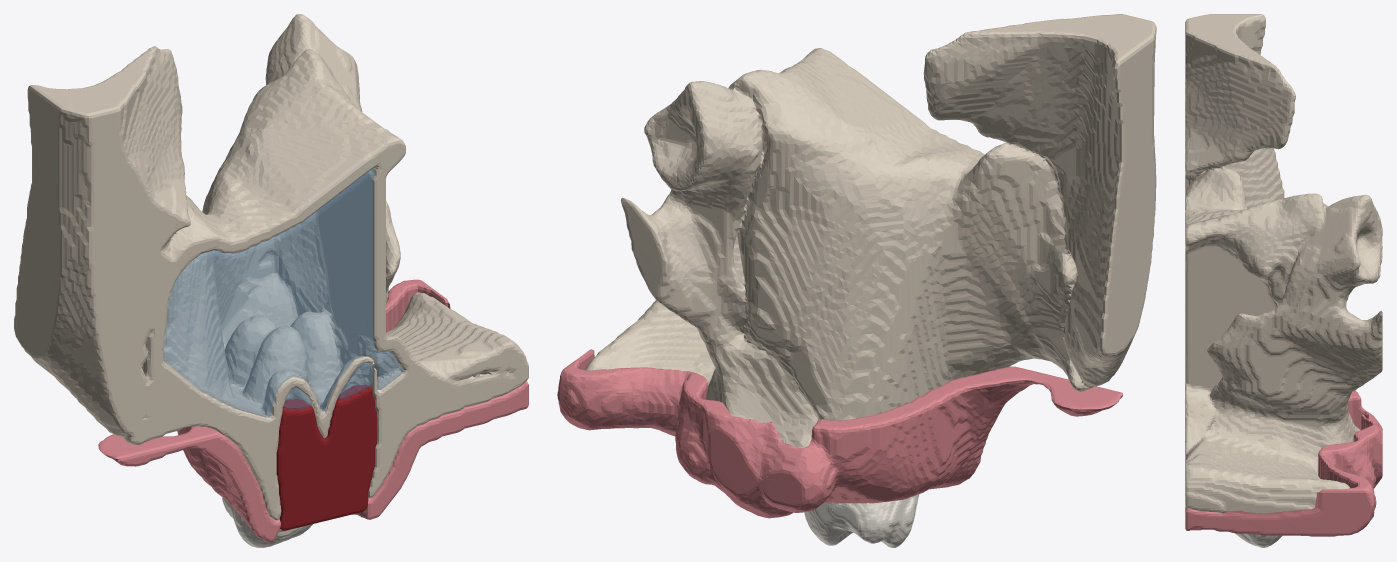
File: clot.glb
3 renders of one model, left to right at view 1: azimuth 30°, elevation 25°; view 2: azimuth 150°, elevation 25°; view 3: azimuth 270°, elevation 25°, orthographic. The views are drawn at different scales.
Parts seen in each view (by area): view 1: bone, sinus, gum, clot, teeth; view 2: bone, gum, teeth; view 3: bone, gum, teeth.
Boxes of the visible parts, x1,y1,x2,y2 form: bone: (14, 14, 528, 520); sinus: (163, 168, 403, 417); gum: (98, 279, 528, 541); clot: (276, 385, 376, 530); teeth: (222, 497, 312, 547); bone: (585, 14, 1156, 448); gum: (557, 349, 1122, 518); teeth: (804, 494, 919, 547); bone: (1185, 14, 1382, 513); gum: (1185, 390, 1382, 536); teeth: (1234, 533, 1282, 547).
Bounding box in the file's own units: 0.051 × 0.0547 × 0.023.
